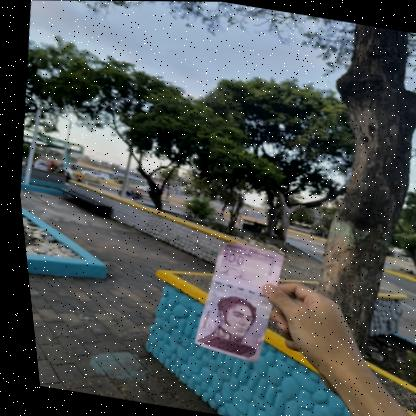one_hundred-front-vef: (177, 234, 288, 365)
